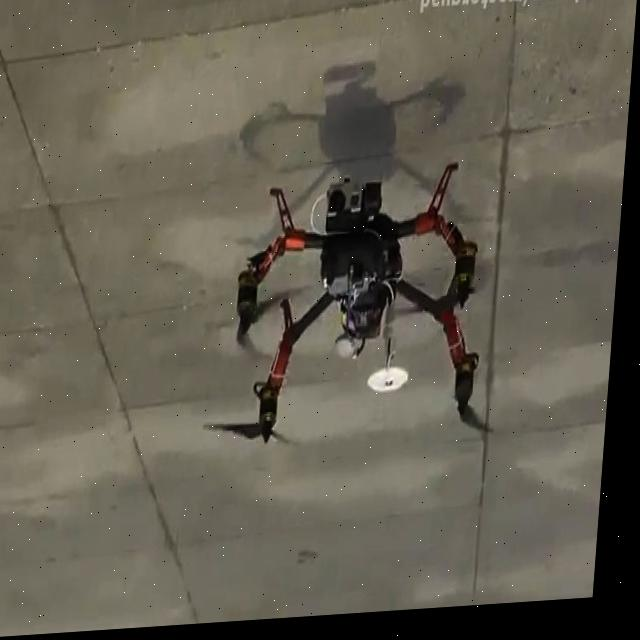drone: (208, 159, 521, 475)
